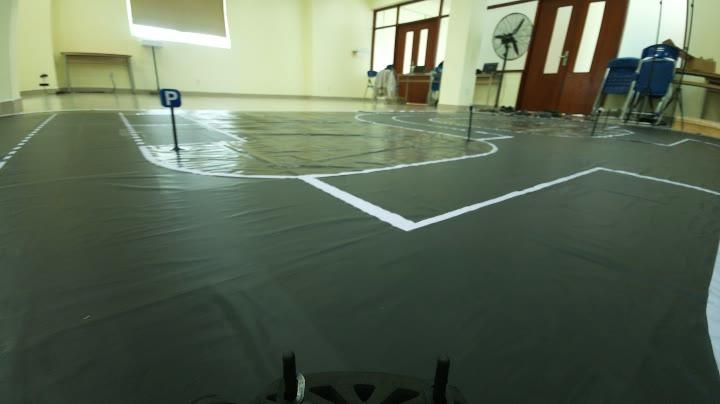parking: (156, 86, 188, 116)
